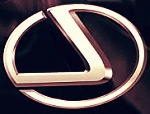Lexus: (1, 1, 149, 112)
